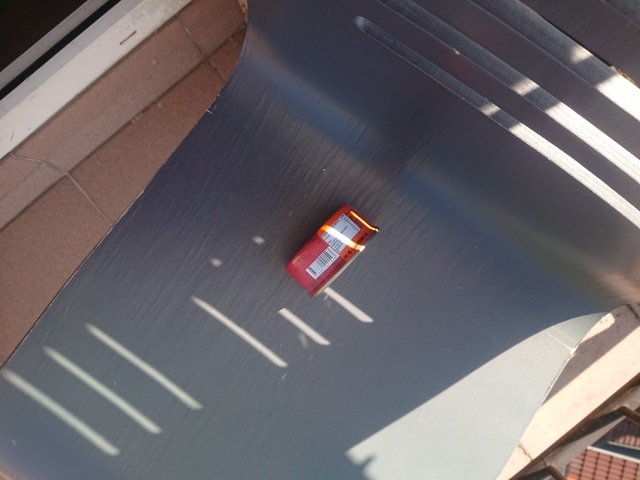Gavrilovic Pork Liver Pate 100g: (282, 199, 382, 302)
